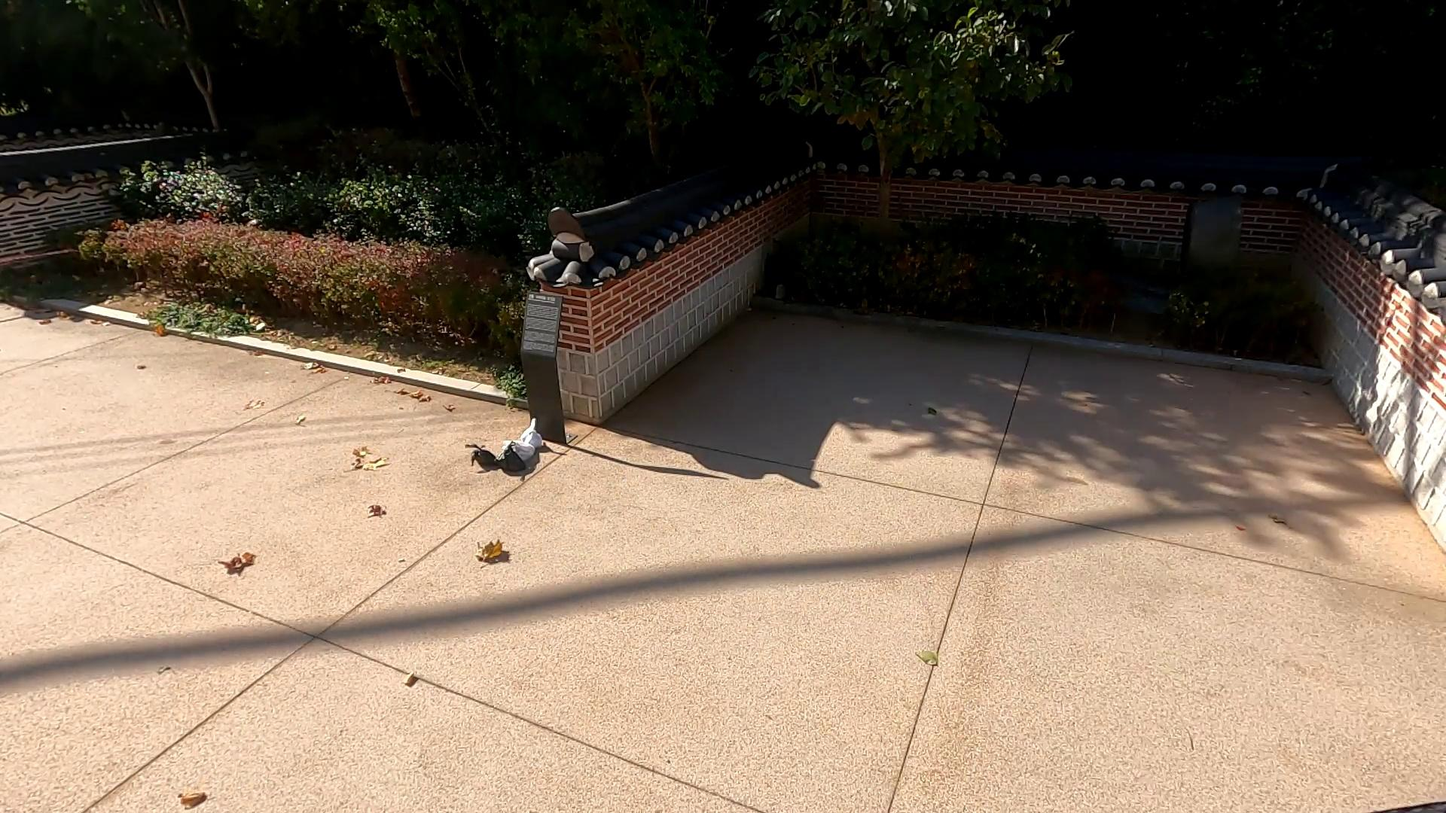trash: (494, 442, 529, 474), (500, 437, 535, 464), (464, 443, 495, 469), (519, 416, 543, 447)
